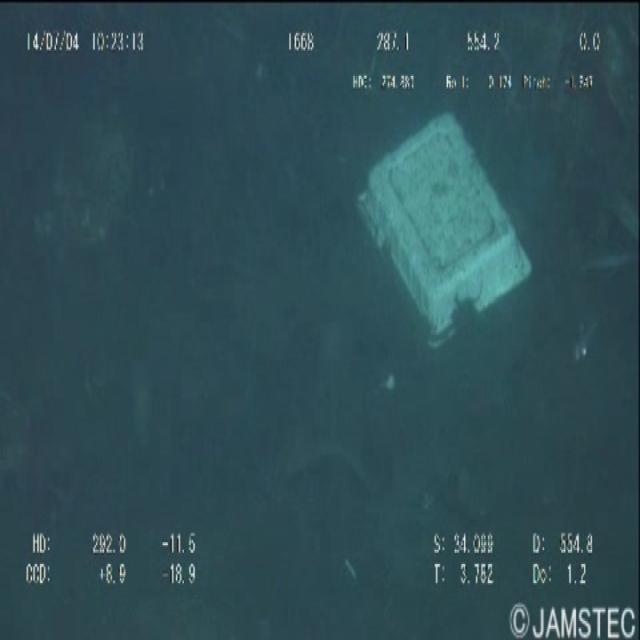Cutlery: (351, 99, 541, 346)
